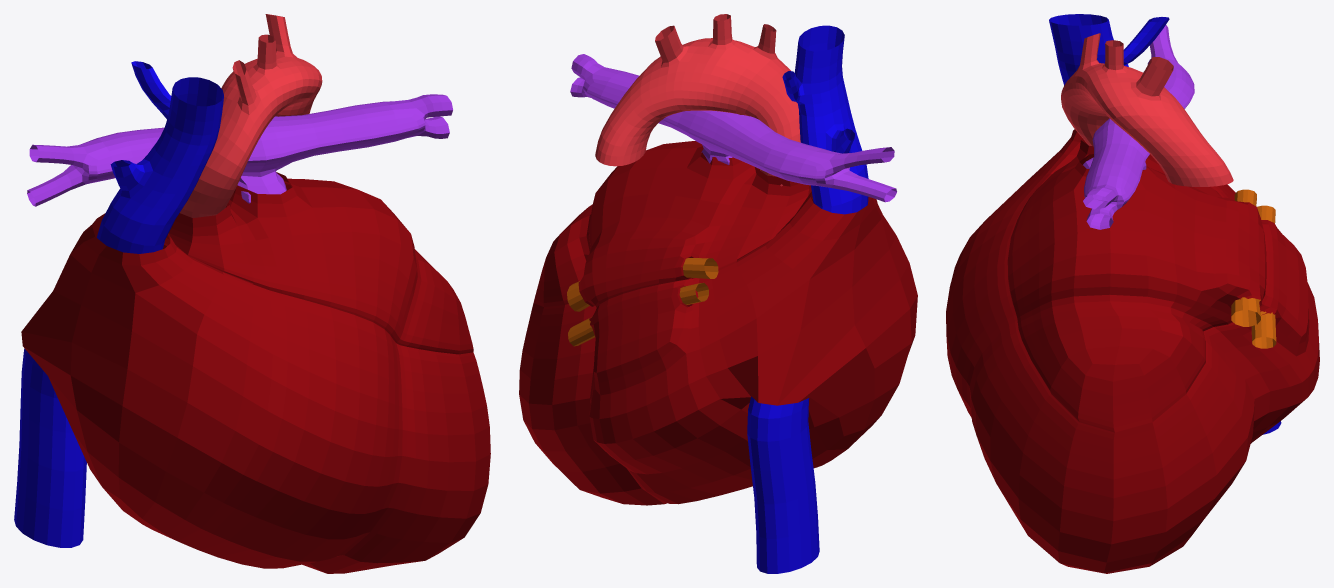
Rendered from Human Heart.fbx.
3 renders of one model, left to right at view 1: azimuth 30°, elevation 25°; view 2: azimuth 150°, elevation 25°; view 3: azimuth 270°, elevation 25°, orthographic. The views are drawn at different scales.
Parts seen in each view (by area): view 1: Cube, Cube.001, Cube.005, Cube.002; view 2: Cube, Cube.001, Cube.002, Cube.005, Cube.003, Cube.004; view 3: Cube, Cube.002, Cube.005, Cube.001, Cube.003, Cube.004.
Part boxes in pixels (<box>): Cube: <box>21,172,490,573</box>; Cube.001: <box>14,61,223,547</box>; Cube.005: <box>27,94,452,206</box>; Cube.002: <box>180,14,322,217</box>; Cube: <box>519,141,917,505</box>; Cube.001: <box>747,25,868,573</box>; Cube.002: <box>595,14,800,186</box>; Cube.005: <box>570,54,896,202</box>; Cube.003: <box>567,258,718,311</box>; Cube.004: <box>568,282,708,346</box>; Cube: <box>946,129,1319,573</box>; Cube.002: <box>1061,33,1233,186</box>; Cube.005: <box>1083,25,1194,229</box>; Cube.001: <box>1049,14,1281,434</box>; Cube.003: <box>1231,189,1260,326</box>; Cube.004: <box>1251,205,1276,348</box>.
Bounding box in the file's own units: 244 × 216 × 299.
